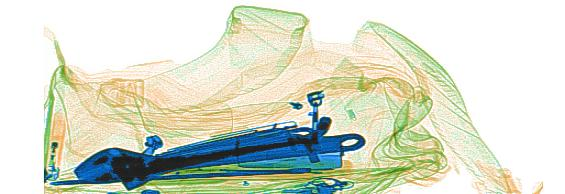lighter: (43, 107, 66, 182)
